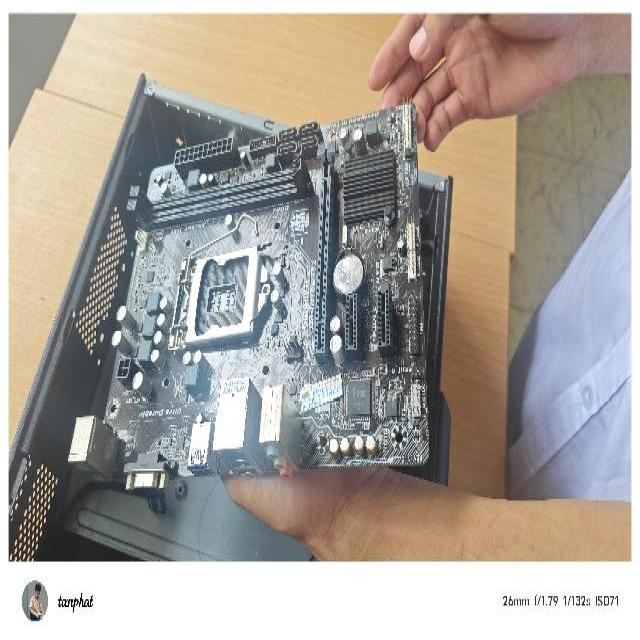Mainboard: (64, 105, 433, 490)
